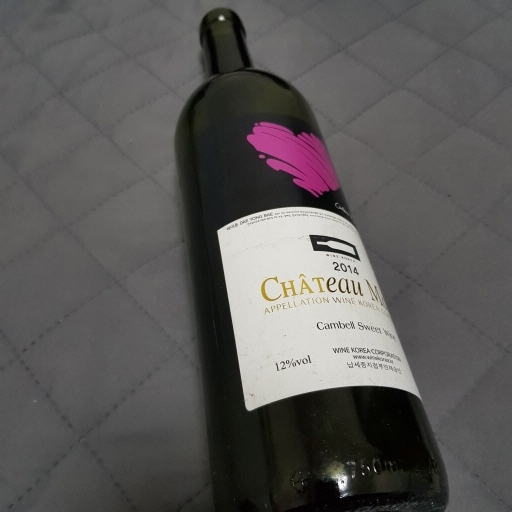Glass_2: (168, 9, 454, 512)
